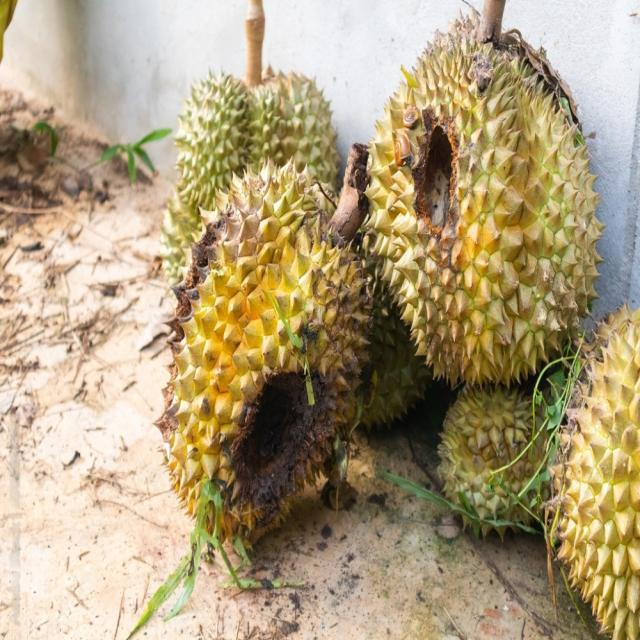defective: (366, 14, 604, 400), (158, 151, 373, 546)
